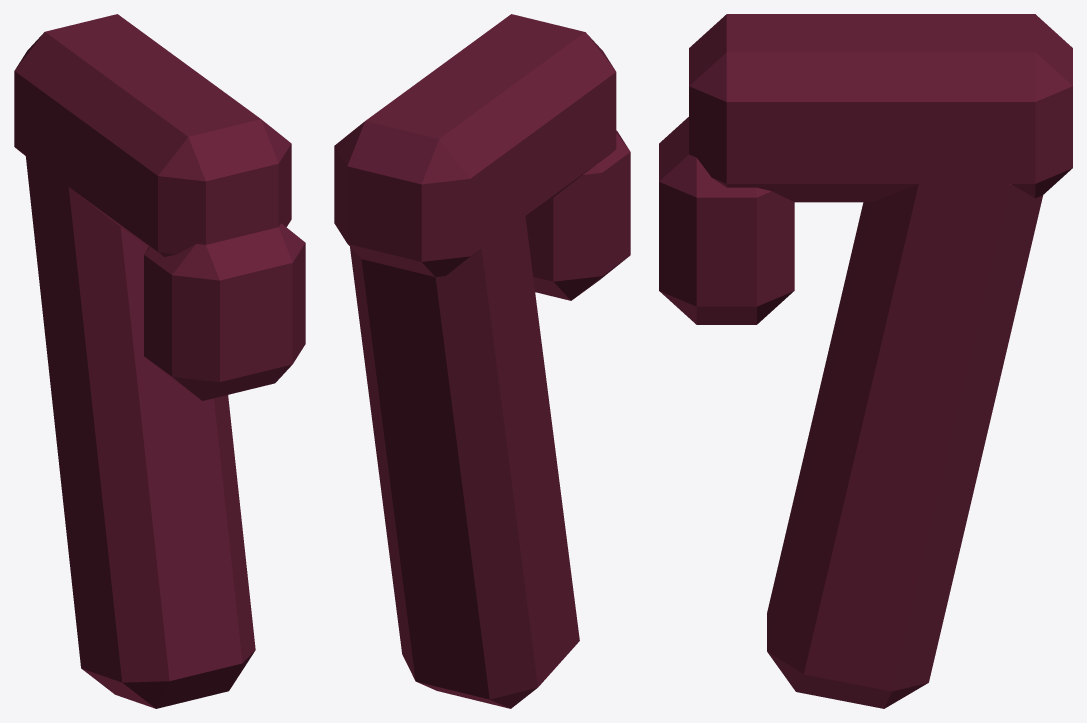
File: cat_tail.glb
The picture shows the model from 3 angles, left to right: view 1: azimuth 30°, elevation 25°; view 2: azimuth 150°, elevation 25°; view 3: azimuth 270°, elevation 25°; orthographic projection. The views are drawn at different scales.
Parts seen in each view (by area): view 1: Tail; view 2: Tail; view 3: Tail.
Boxes of the visible parts, <box> form: Tail: <box>14,14,305,708</box>; Tail: <box>334,14,630,708</box>; Tail: <box>659,14,1072,708</box>.
Bounding box in the file's own units: 0.11 × 0.4815 × 0.275.
